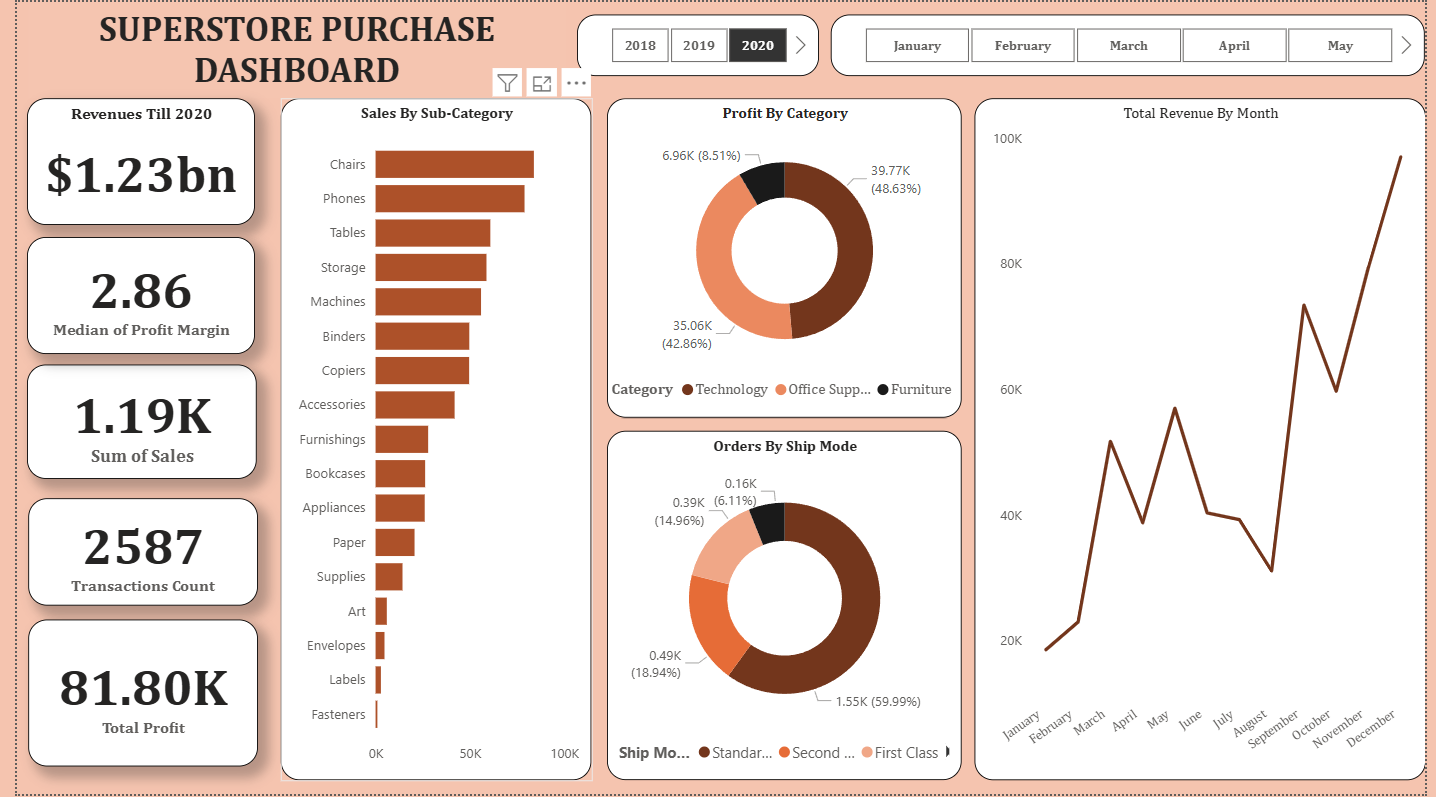

The dashboard page shown, as its layout file describes it:
{"tool":"powerbi","page":{"name":"dashboard1","canvas":[1280,720],"ordinal":0},"visuals":[{"type":"slicer","fields":{"Values":["Orders.Order Date.Variation.Date Hierarchy.Year"]},"box":[506.9,11.5,248.3,56.3],"z":0},{"type":"card","fields":{"Values":["Sum(Orders.Sales)"]},"box":[12.6,87.4,206.9,114.9],"z":1000},{"type":"card","fields":{"Values":["Sum(Orders.Sales)"]},"box":[8.8,330,208.8,103.8],"z":2000},{"type":"donutChart","title":"Orders By Ship Mode","fields":{"Category":["Orders.Ship Mode"],"Y":["CountNonNull(Orders.Order ID)"]},"box":[916.1,409.2,354,298.9],"z":3000},{"type":"barChart","title":"Sales By Sub-Category","fields":{"Category":["Orders.Sub-Category"],"Y":["Sum(Orders.Sales)"]},"box":[239.1,87.4,282.8,620.7],"z":4000},{"type":"lineChart","title":"Total Revenue By Month","fields":{"Category":["Orders.Order Date.Variation.Date Hierarchy.Month"],"Y":["Sum(Orders.Sales)"]},"box":[531,87.4,739.1,313.8],"z":5000},{"type":"donutChart","title":"Profit By Category","fields":{"Y":["Sum(Orders.Profit)"],"Category":["Orders.Category"]},"box":[531,409.2,374.7,298.9],"z":6000},{"type":"card","title":"Transactions","fields":{"Values":["CountNonNull(Orders.Order ID)"]},"box":[11.5,442.5,208,116.1],"z":7000},{"type":"slicer","fields":{"Values":["Orders.Order Date.Variation.Date Hierarchy.Month"]},"box":[740,11.2,540,56.2],"z":8000},{"type":"card","fields":{"Values":["Median(Orders.Profit Margin)"]},"box":[8.8,213.8,207.5,106.2],"z":9000},{"type":"card","fields":{"Values":["Sum(Orders.Profit)"]},"box":[11.5,573.6,208,104.6],"z":10000},{"type":"textbox","box":[10.2,0,488.6,87.5],"z":11000}]}

Visuals, with their boxes in screenshot pixels (x1, y1, x2, y2), scaled from the page's 1280x720 canvas onto the 1436x797 screenshot:
slicer - Orders.Order Date.Variation.Date Hierarchy.Year: [569,13,847,75]
card - Sum(Orders.Sales): [14,97,246,224]
card - Sum(Orders.Sales): [10,365,244,480]
"Orders By Ship Mode" donutChart: [1028,453,1425,784]
"Sales By Sub-Category" barChart: [268,97,586,784]
"Total Revenue By Month" lineChart: [596,97,1425,444]
"Profit By Category" donutChart: [596,453,1016,784]
"Transactions" card: [13,490,246,618]
slicer - Orders.Order Date.Variation.Date Hierarchy.Month: [830,12,1435,75]
card - Median(Orders.Profit Margin): [10,237,243,354]
card - Sum(Orders.Profit): [13,635,246,751]
textbox: [11,0,560,97]
